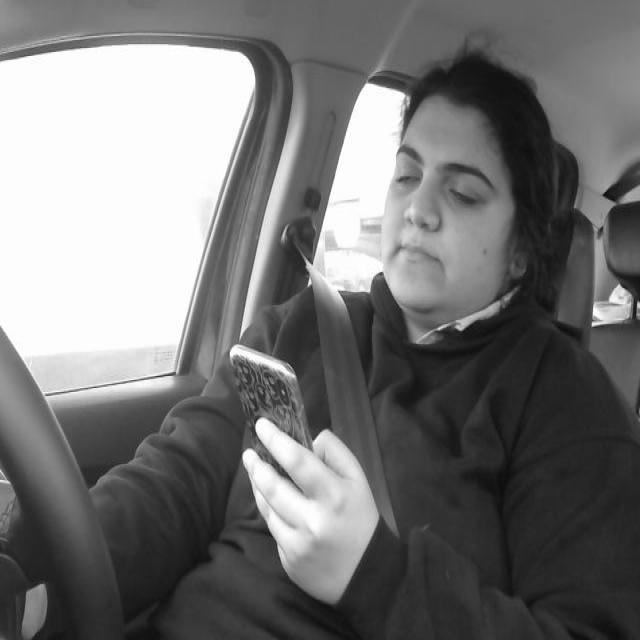mobile use: (224, 342, 308, 491)
